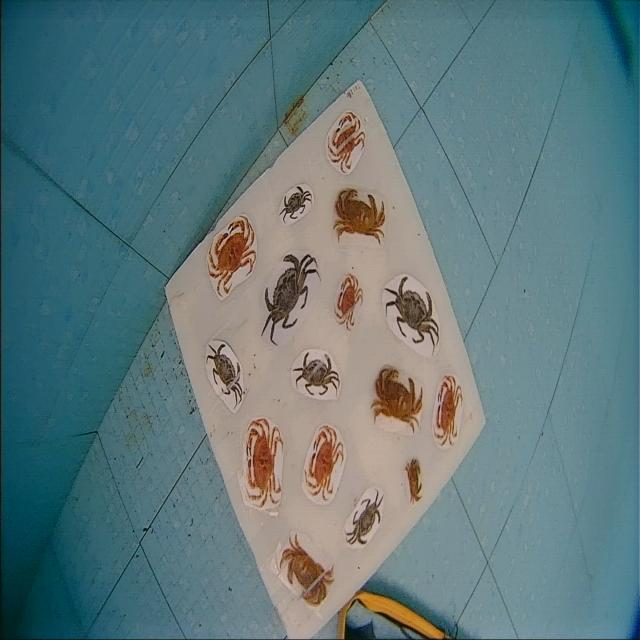GreenCrab: (261, 254, 321, 345), (385, 276, 439, 349), (206, 344, 243, 395), (295, 354, 339, 394), (280, 185, 311, 219)
